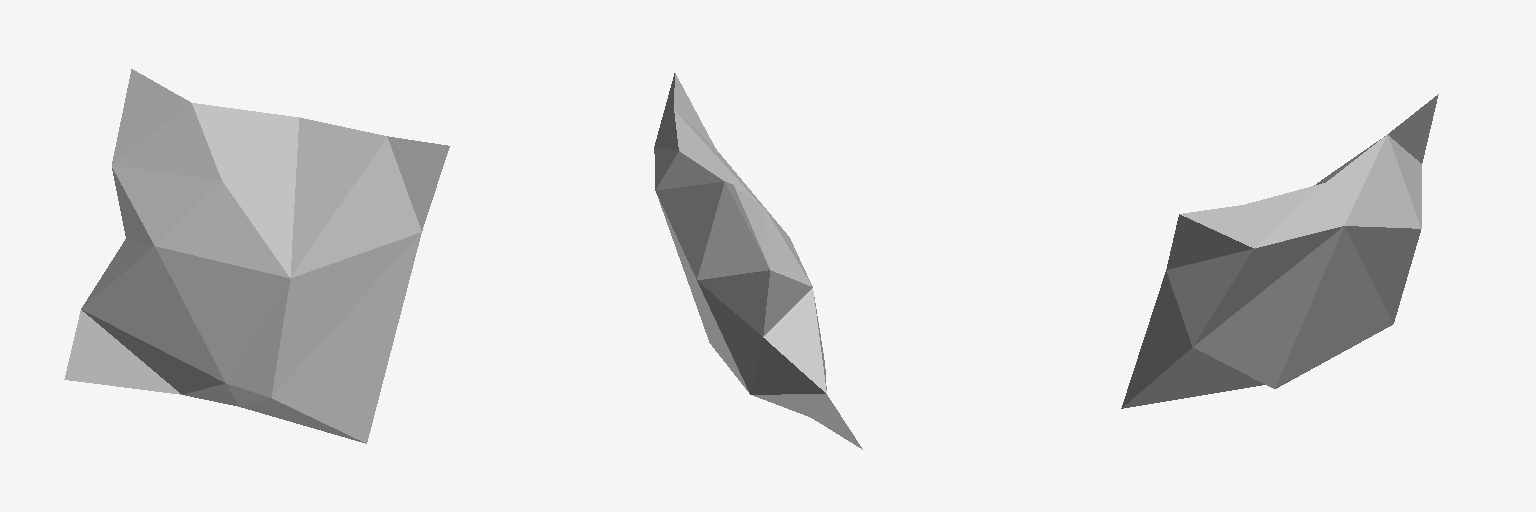
File: SofaCushion4_ConvexMesh.obj
3 renders of one model, left to right at view 1: azimuth 30°, elevation 25°; view 2: azimuth 150°, elevation 25°; view 3: azimuth 270°, elevation 25°, orthographic.
Parts seen in each view (by area): view 1: SofaCushion4_ConvexMesh; view 2: SofaCushion4_ConvexMesh; view 3: SofaCushion4_ConvexMesh.
Part boxes in pixels (bbox=[...]): SofaCushion4_ConvexMesh: bbox=[64, 69, 449, 443]; SofaCushion4_ConvexMesh: bbox=[654, 73, 862, 449]; SofaCushion4_ConvexMesh: bbox=[1121, 94, 1438, 408].
Size of the model in its own units: 0.4782 by 0.4463 by 0.4581.